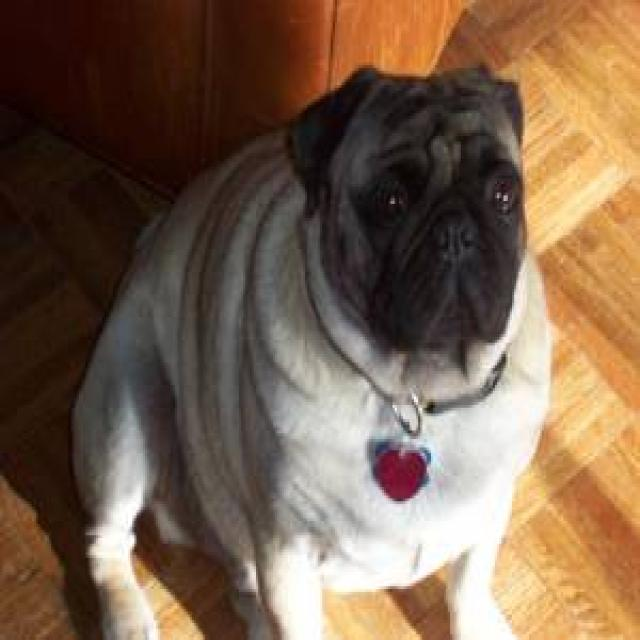dog-pug: (53, 59, 572, 634)
